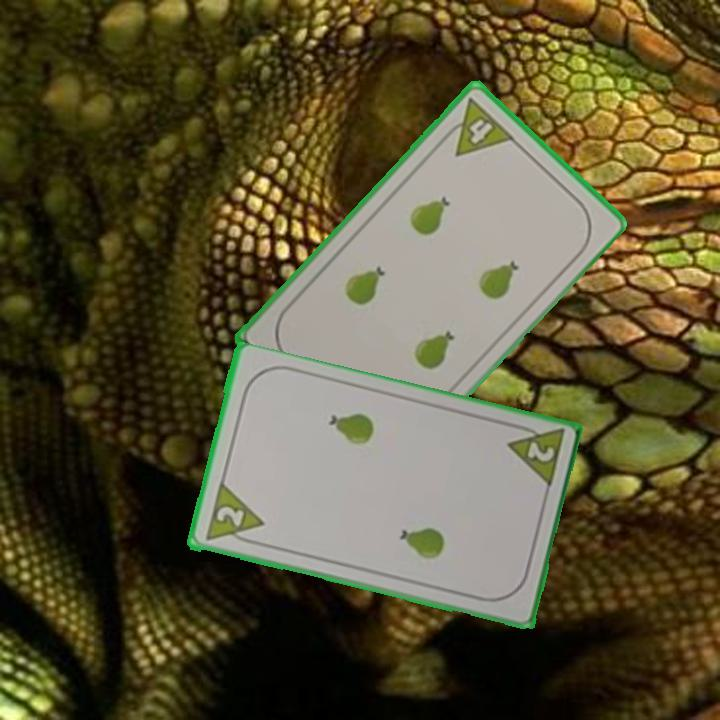2p: (503, 419, 567, 492), (212, 502, 247, 530)
4p: (436, 94, 517, 159)
